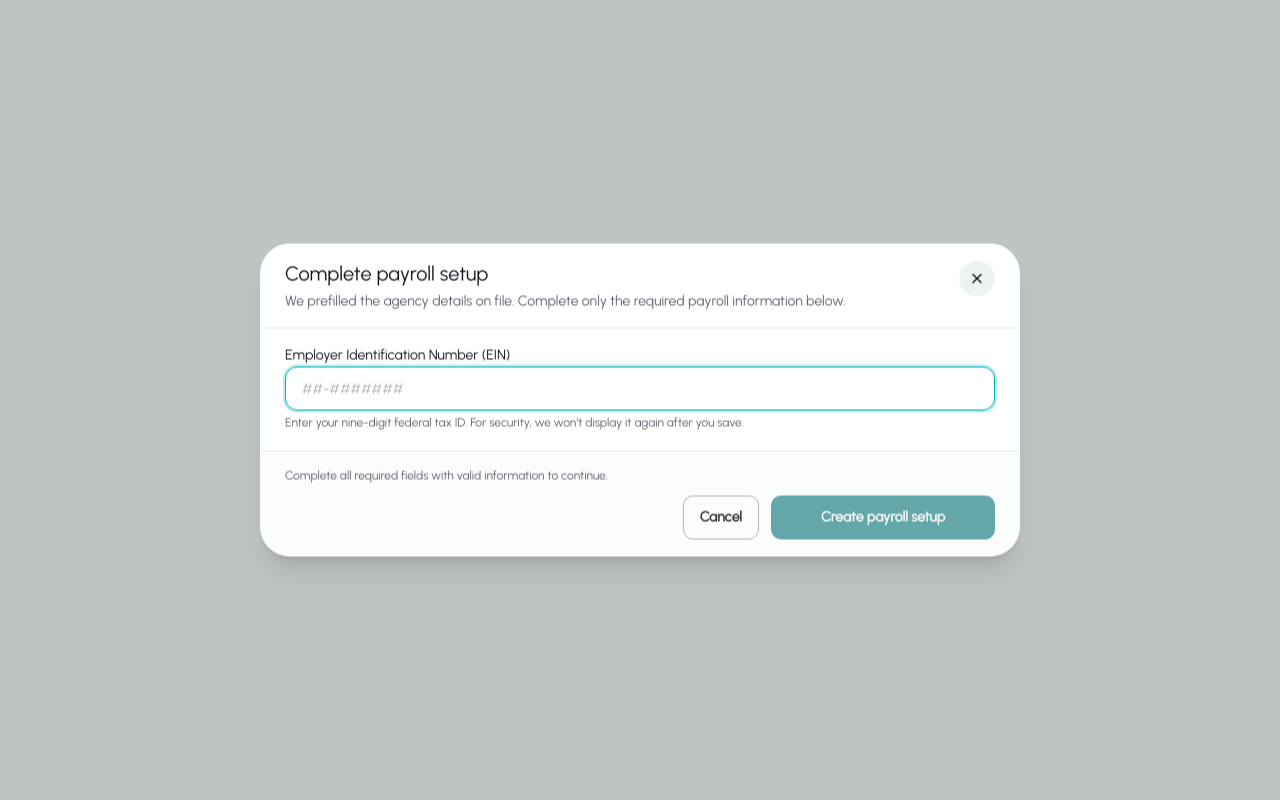
Test: AgencyPayrollBootstrapModal › exposes EIN validity while the required value is edited
Type "12-3" into the field labelled "Employer Identification Number (EIN)" at [640, 388], box [285,366,995,410]
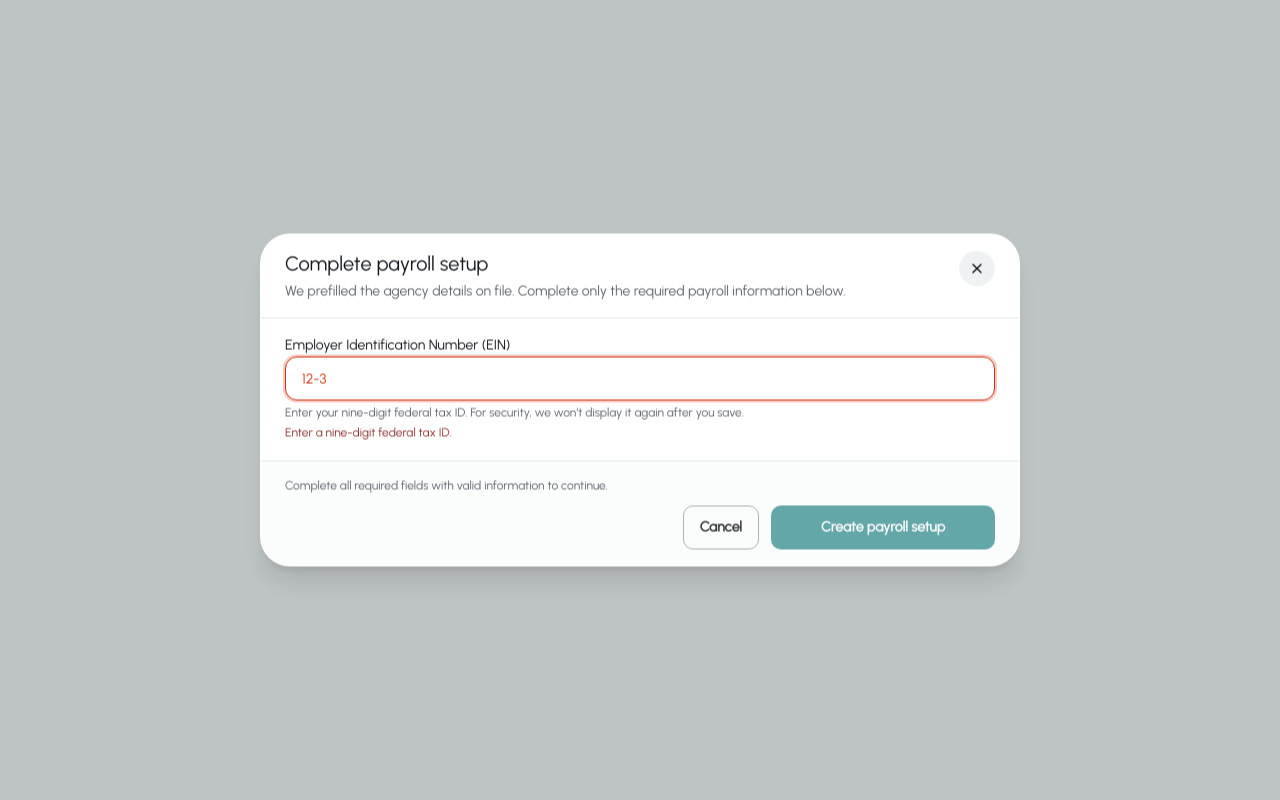
Check: the field labelled "Employer Identification Number (EIN)" is marked as invalid
Type "456789" into the field labelled "Employer Identification Number (EIN)" at [640, 378], box [285,356,995,400]
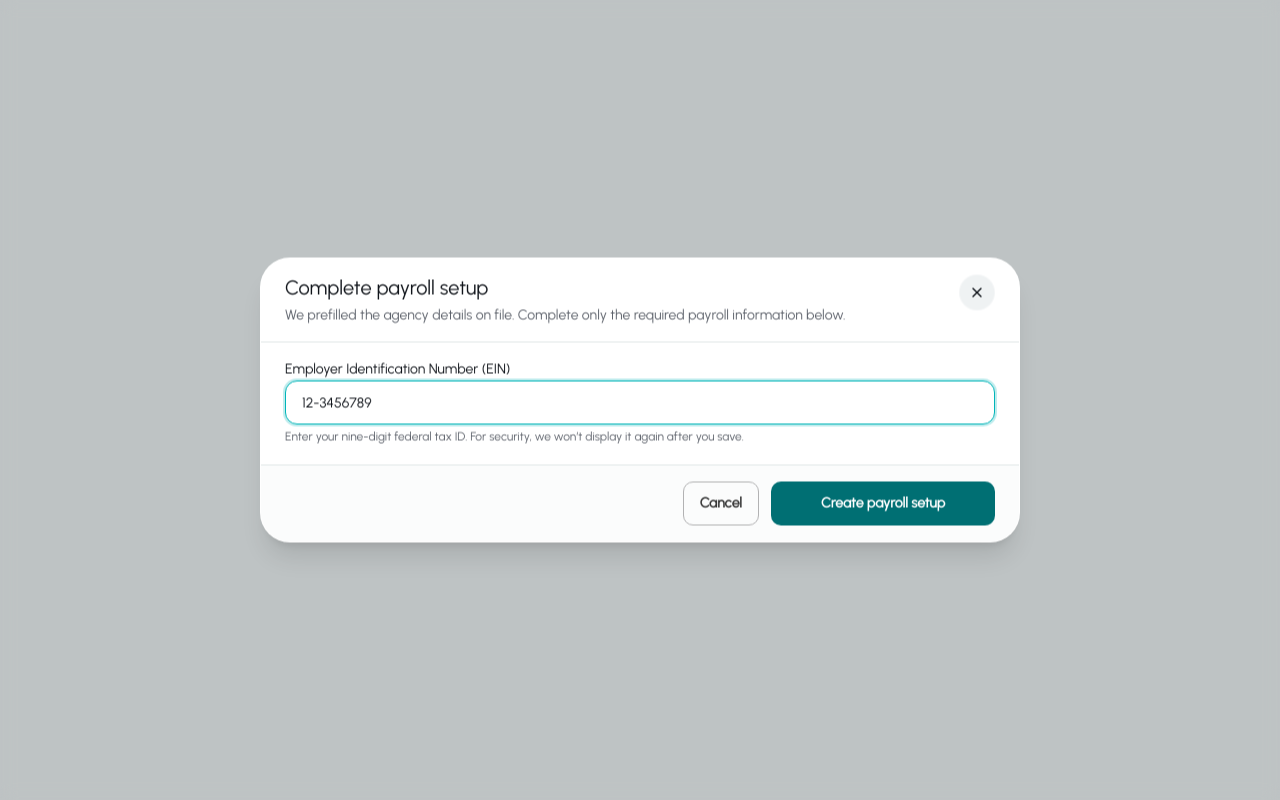
Check: the field labelled "Employer Identification Number (EIN)" is not marked as invalid, box [285,380,995,424]
